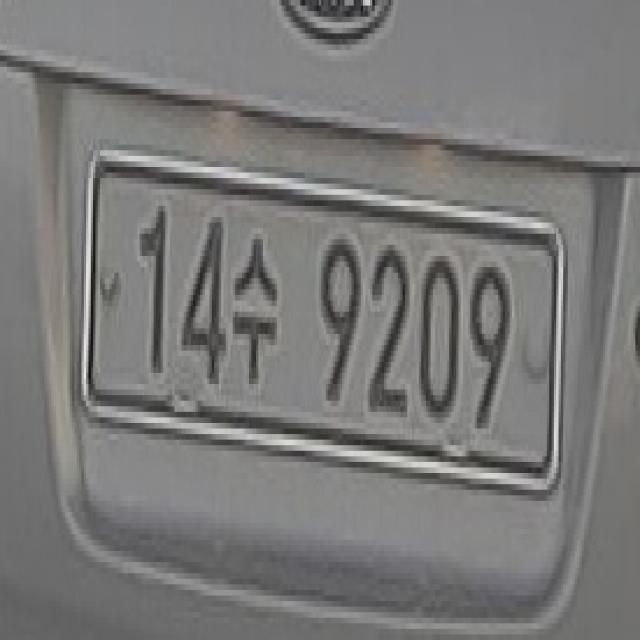0: (417, 245, 463, 434)
1: (130, 189, 174, 390)
2: (366, 239, 416, 434)
4: (179, 206, 228, 412)
9: (316, 222, 366, 418), (468, 250, 516, 446)
license_plate: (77, 128, 570, 506)
su: (228, 217, 282, 406)
